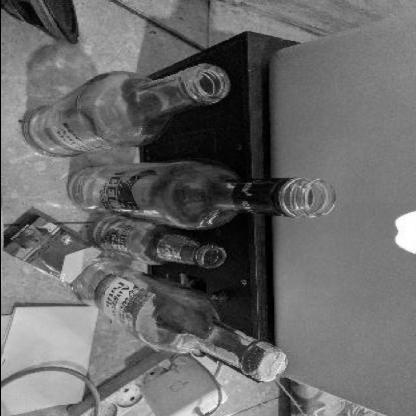objects: (2, 215, 100, 283)
